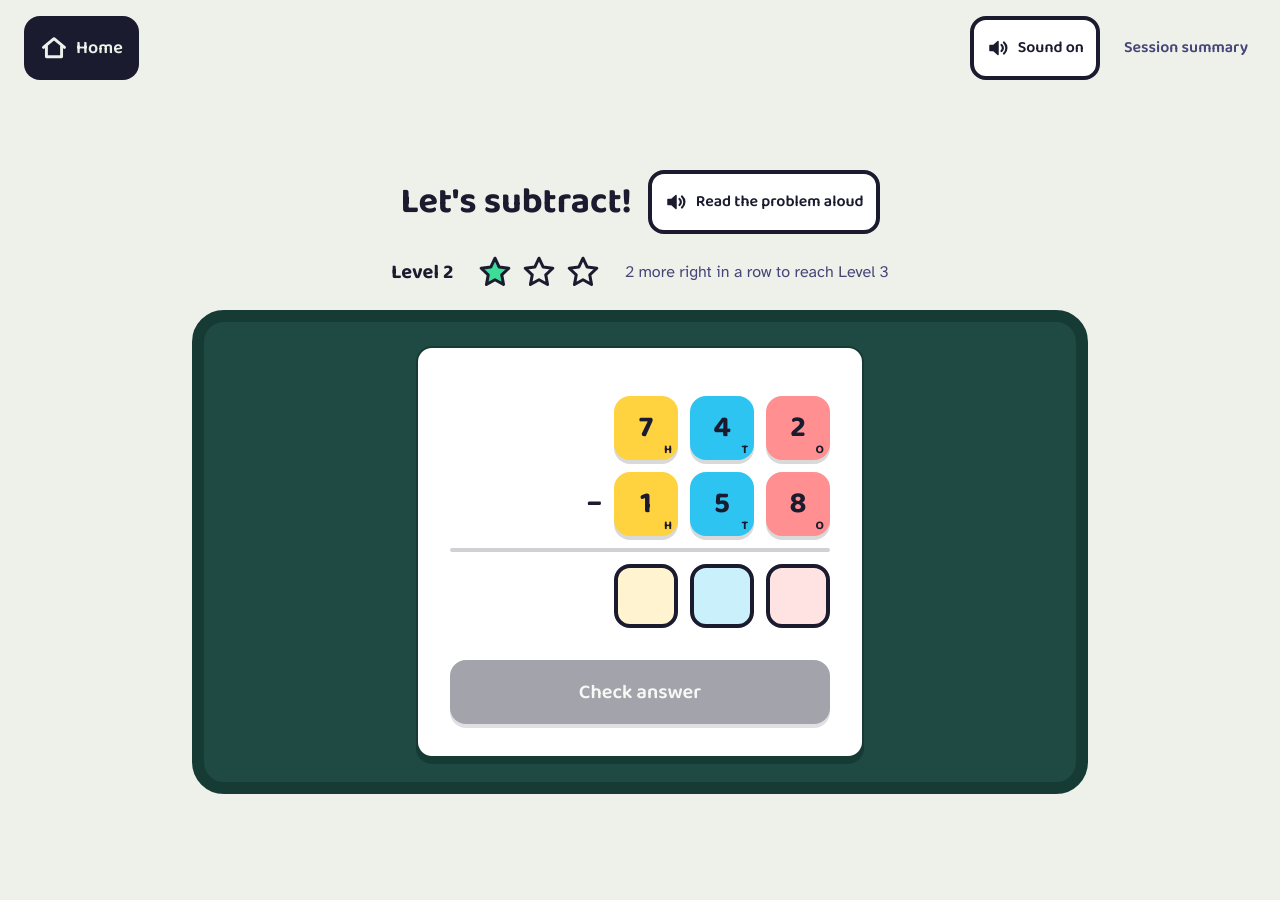
Scenario: a correct answer keeps Correct! on screen with a Next problem button
This screenshot has width=1280, height=900.
Type "5" into the field named "Hundreds digit of your answer".
click(646, 596); type("5")  # box [614,564,678,628]
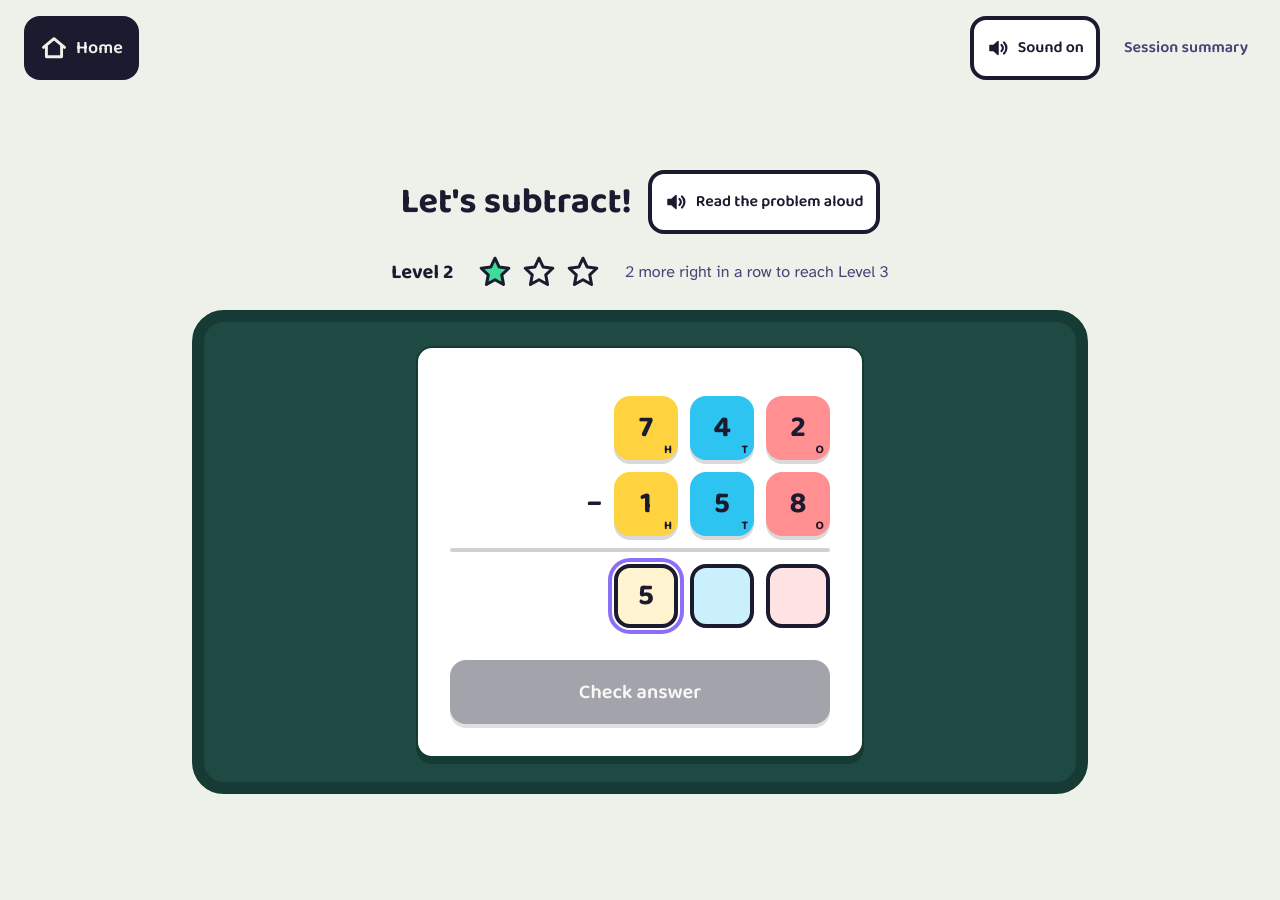
Type "8" into the field named "Tens digit of your answer".
click(722, 596); type("8")  # box [690,564,754,628]
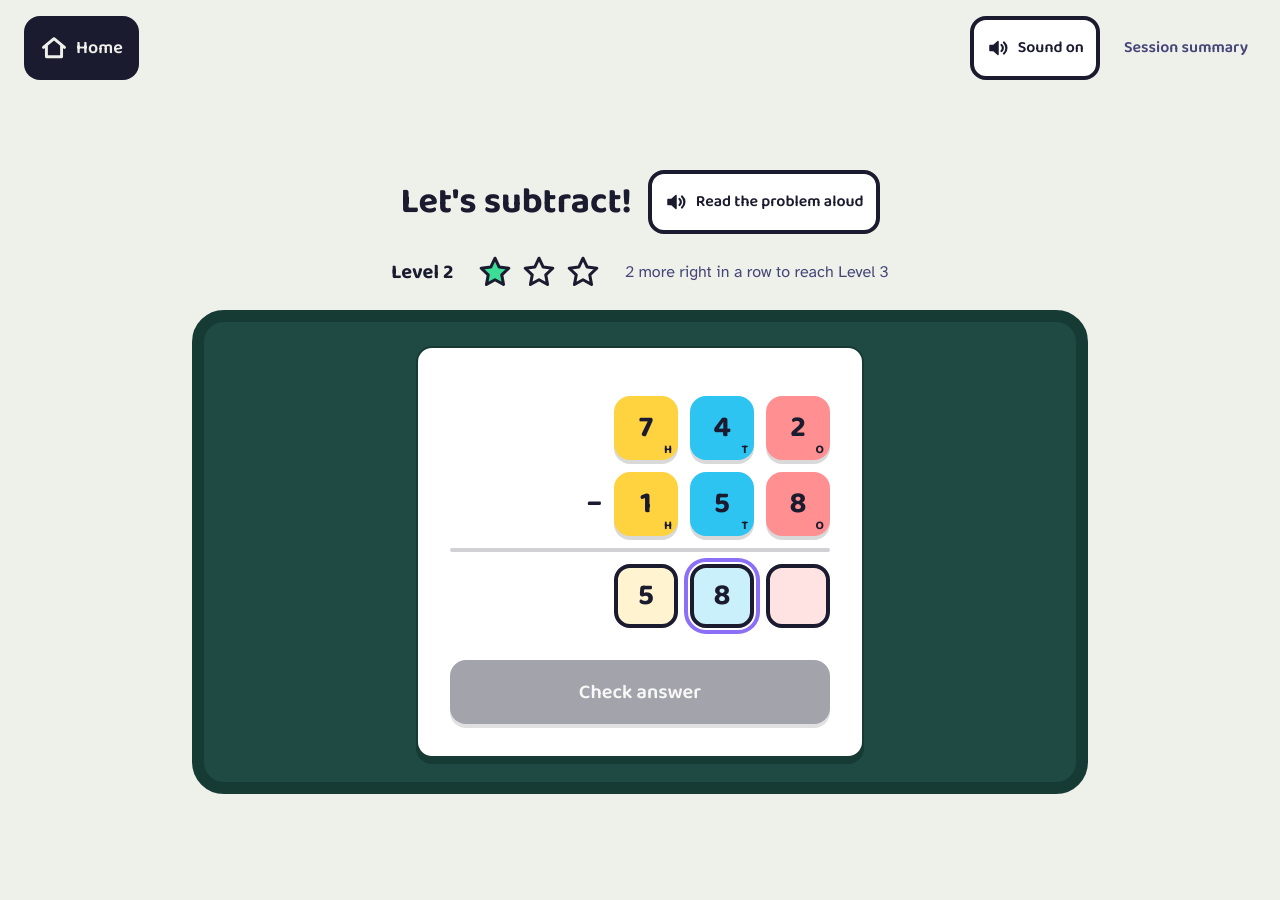
Type "4" into the field named "Ones digit of your answer".
click(798, 596); type("4")  # box [766,564,830,628]
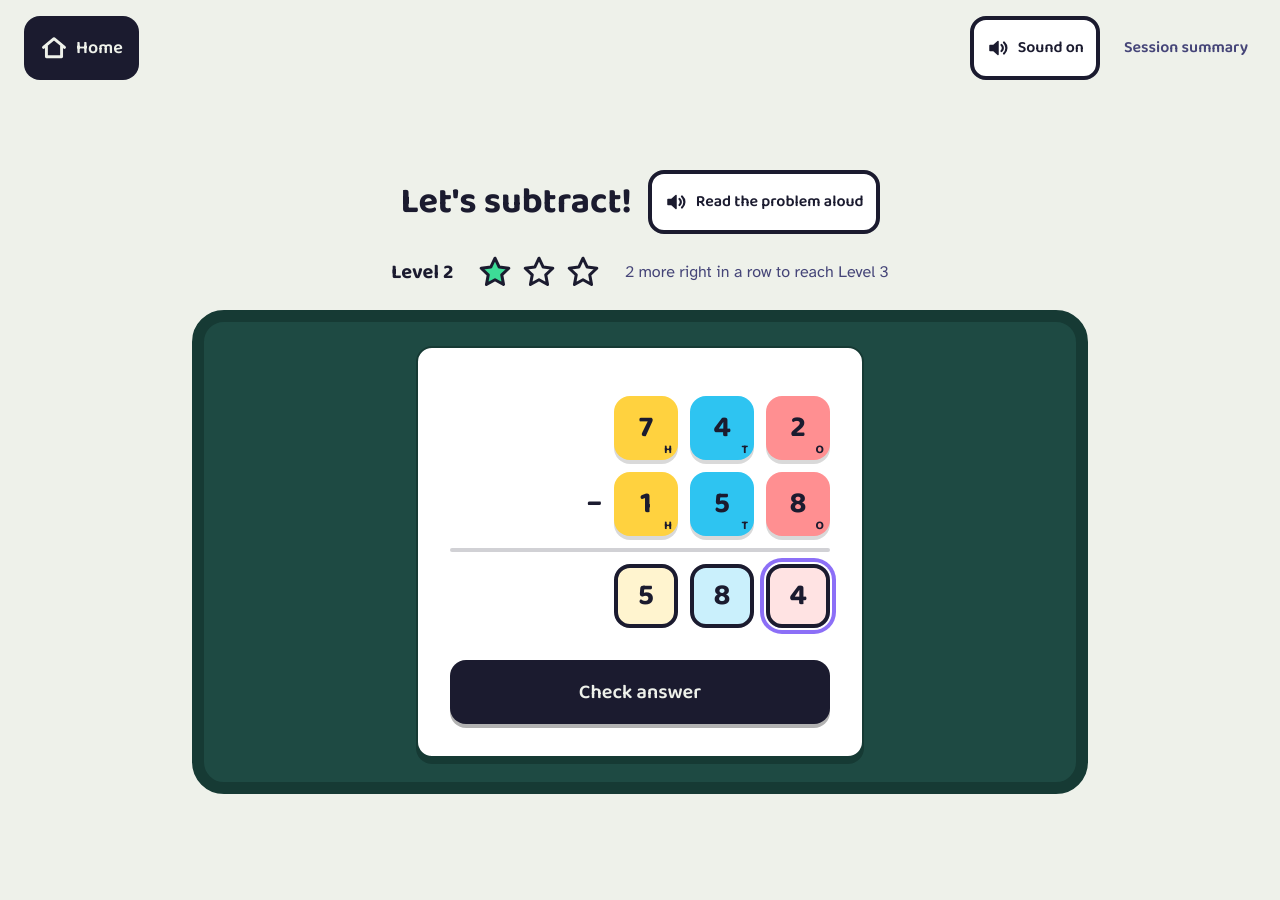
Click the button "Check answer".
click(640, 692)  # box [450,660,830,724]
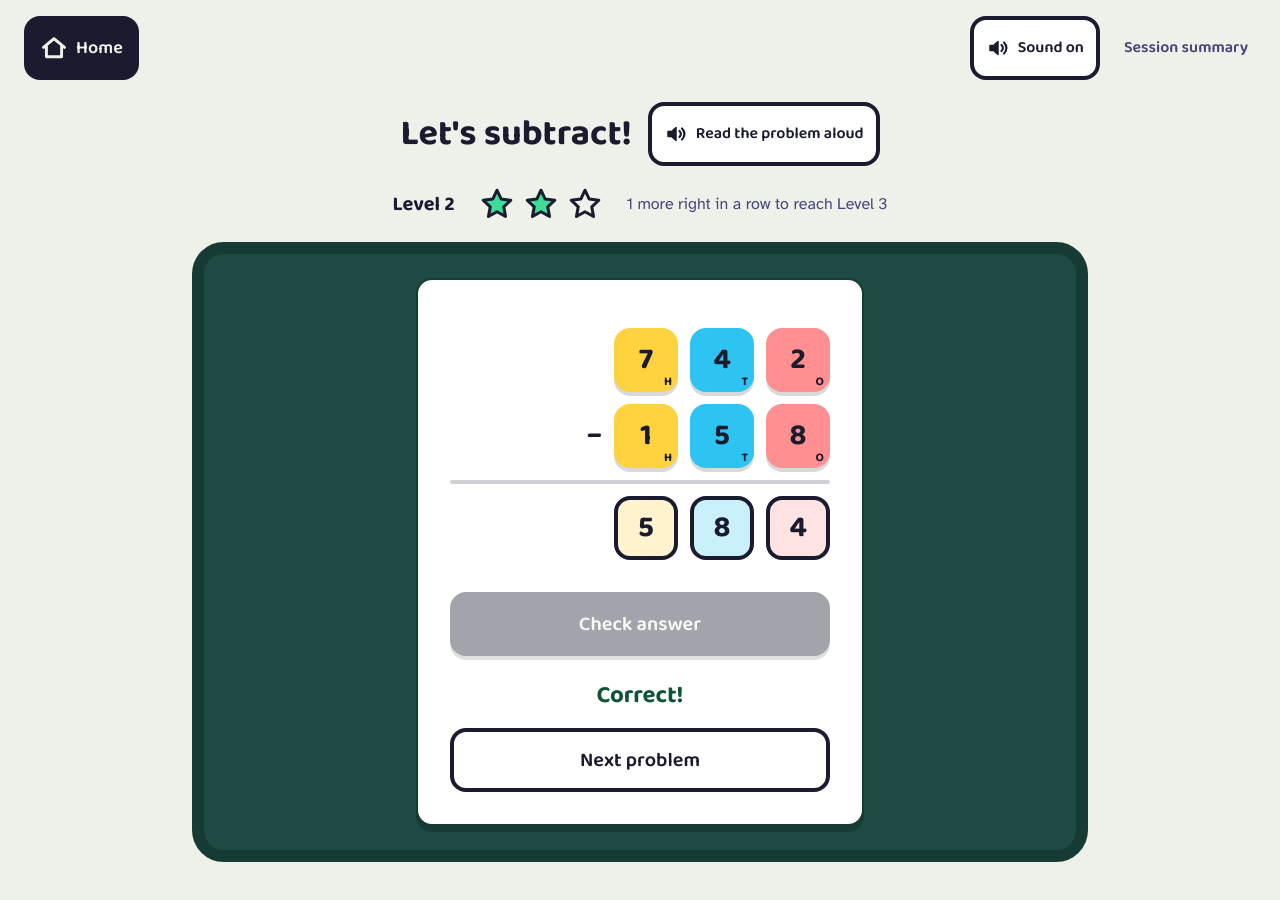
Now the text "Correct!" is shown, box [596,676,684,715]
Now the button "Next problem" is shown, box [450,728,830,792]
Now the button "Check answer" is disabled, box [450,592,830,656]
